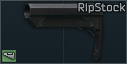CMMG RipStock buttstock: (0, 0, 127, 64)
